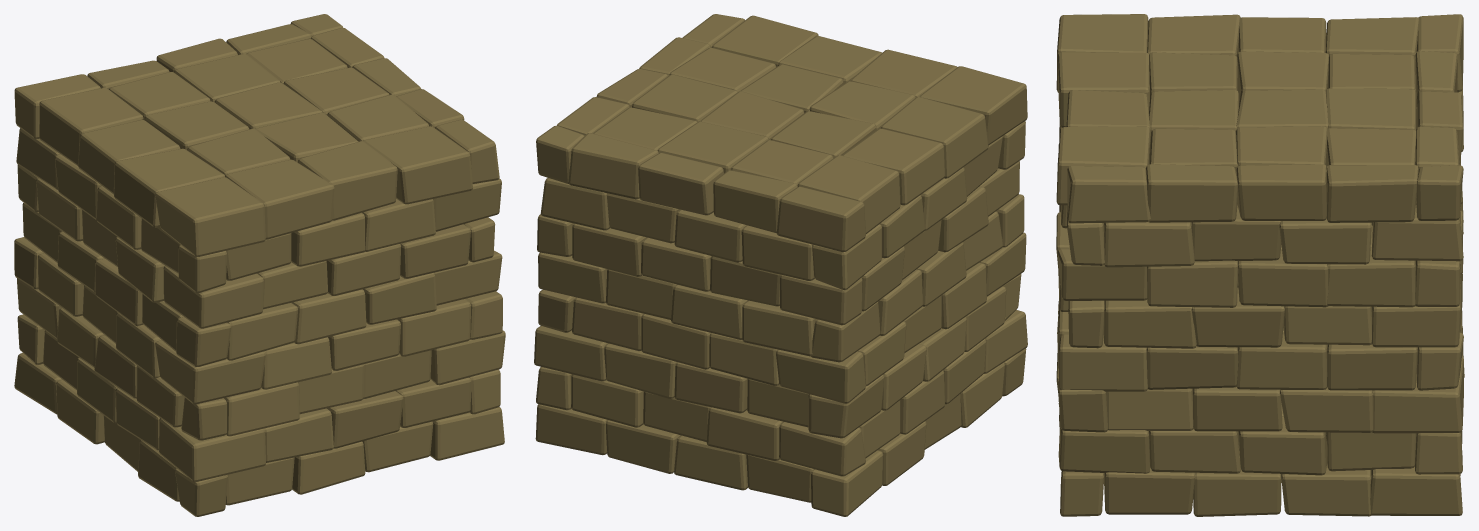
File: BrickBrock.fbx
3 renders of one model, left to right at view 1: azimuth 30°, elevation 25°; view 2: azimuth 150°, elevation 25°; view 3: azimuth 270°, elevation 25°, orthographic. The views are drawn at different scales.
Visible parts, largest first — view 1: Cube.002; view 2: Cube.002; view 3: Cube.002.
Boxes of the visible parts, x1,y1,x2,y2 form: Cube.002: (14, 14, 505, 516); Cube.002: (534, 14, 1027, 516); Cube.002: (1056, 14, 1464, 516).
Size of the model in its own units: 1.01 by 0.9303 by 1.02.
1 material, 1 textured.
